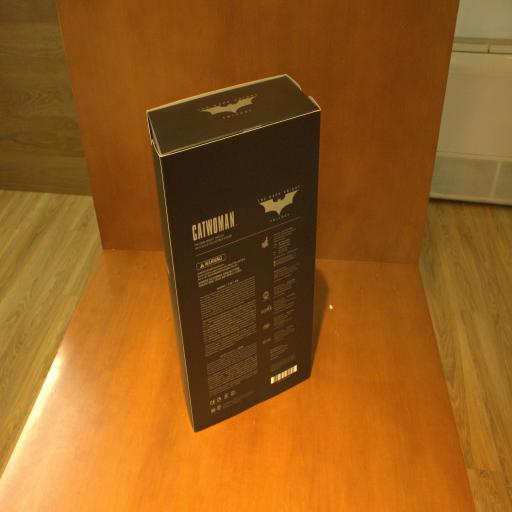catwoman: (148, 74, 322, 431)
